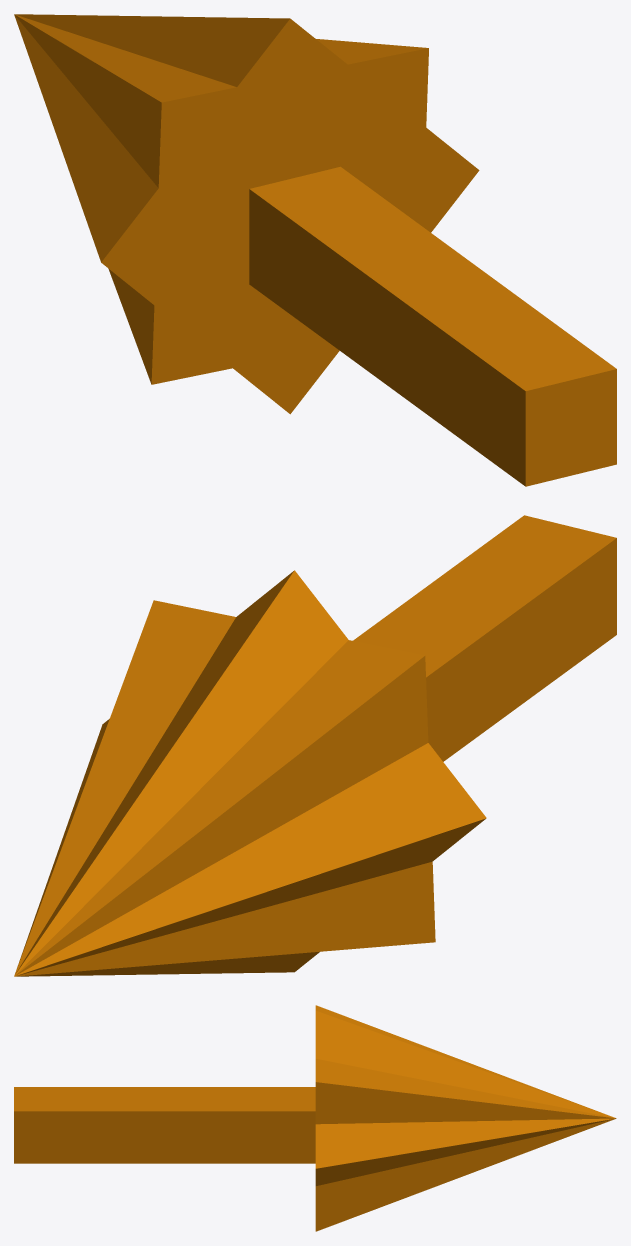
File: Target.obj
3 renders of one model, top to bottom at view 1: azimuth 30°, elevation 25°; view 2: azimuth 150°, elevation 25°; view 3: azimuth 270°, elevation 25°, orthographic. The views are drawn at different scales.
Parts seen in each view (by area): view 1: 円錐; view 2: 円錐; view 3: 円錐.
Boxes of the visible parts, x1,y1,x2,y2 form: 円錐: (14,14,616,486); 円錐: (14,515,616,976); 円錐: (14,1005,616,1231).
Size of the model in its own units: 1.03 by 1.03 by 2.61.
